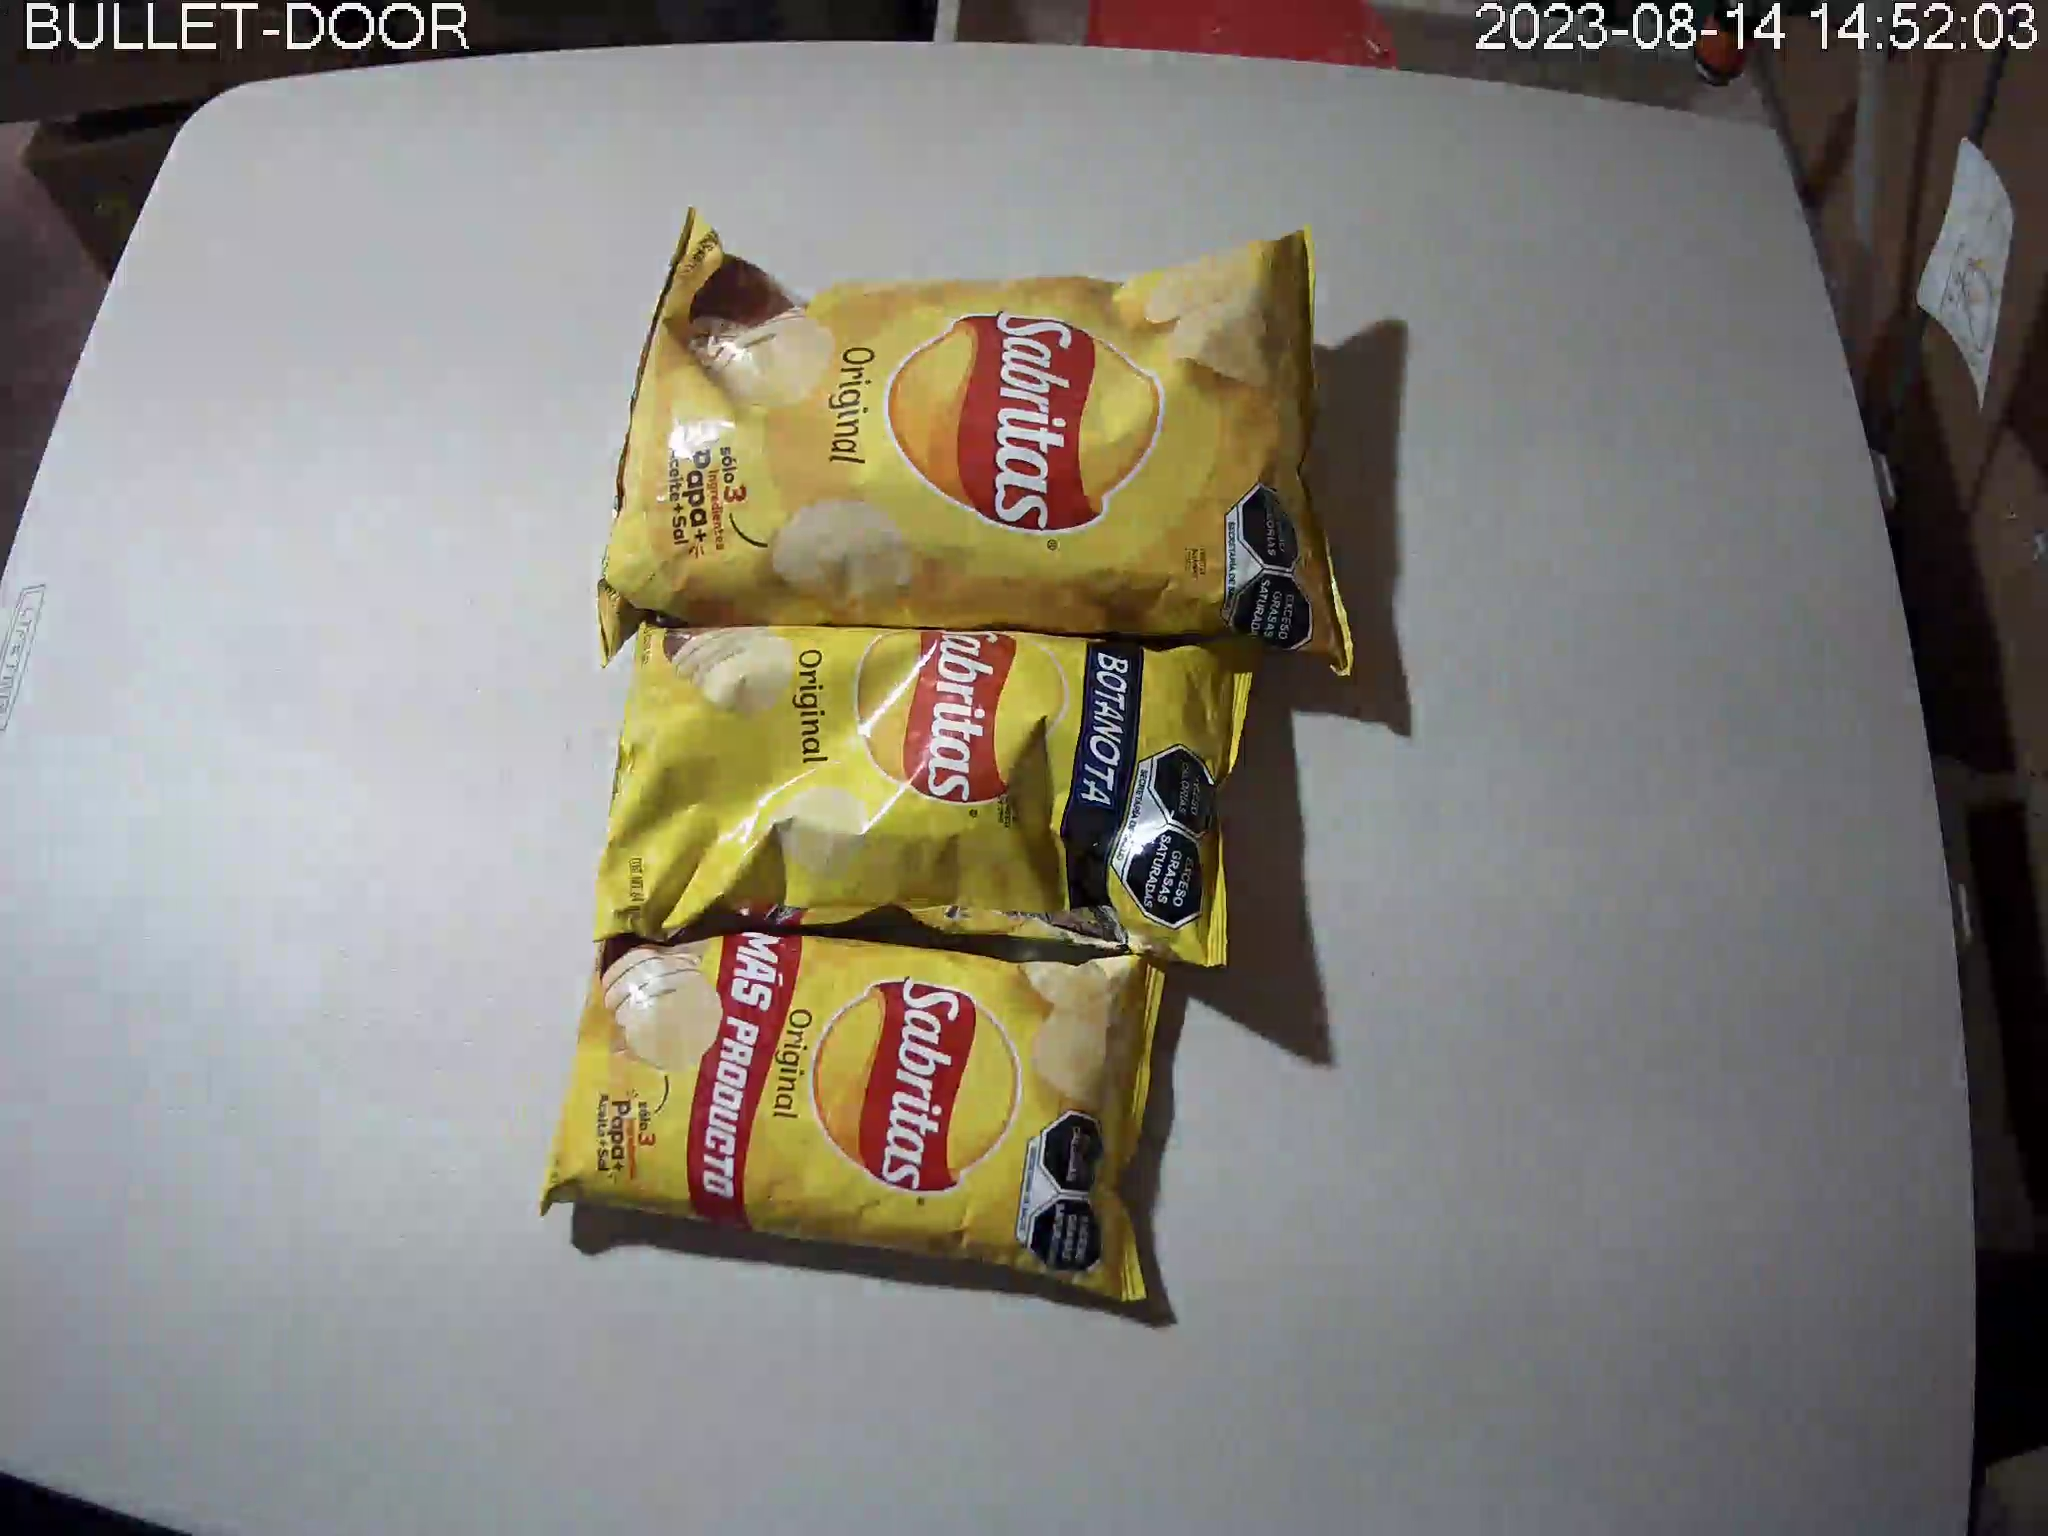Sabritas_160_F: (598, 203, 1359, 678)
Sabritas_45_F: (539, 945, 1172, 1309)
Sabritas_64_F: (590, 623, 1268, 973)
